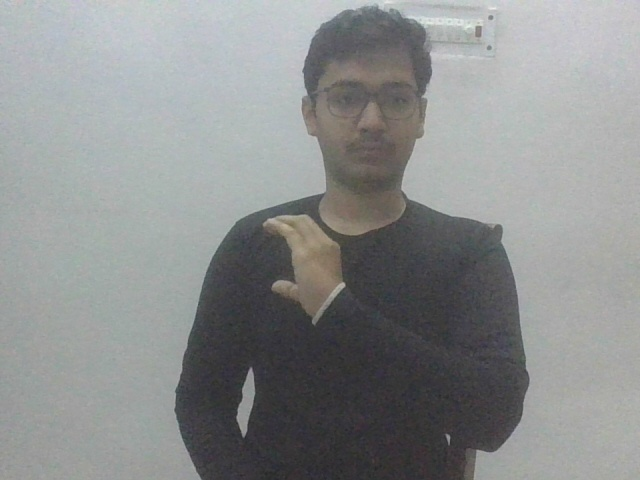C: (257, 210, 344, 324)
